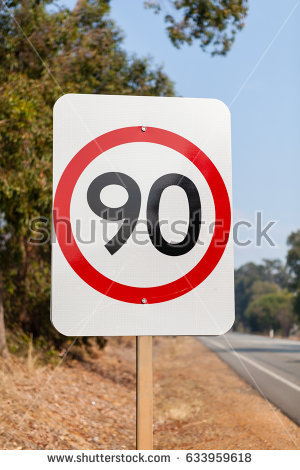Speed_limit_90km: (55, 125, 232, 305)
